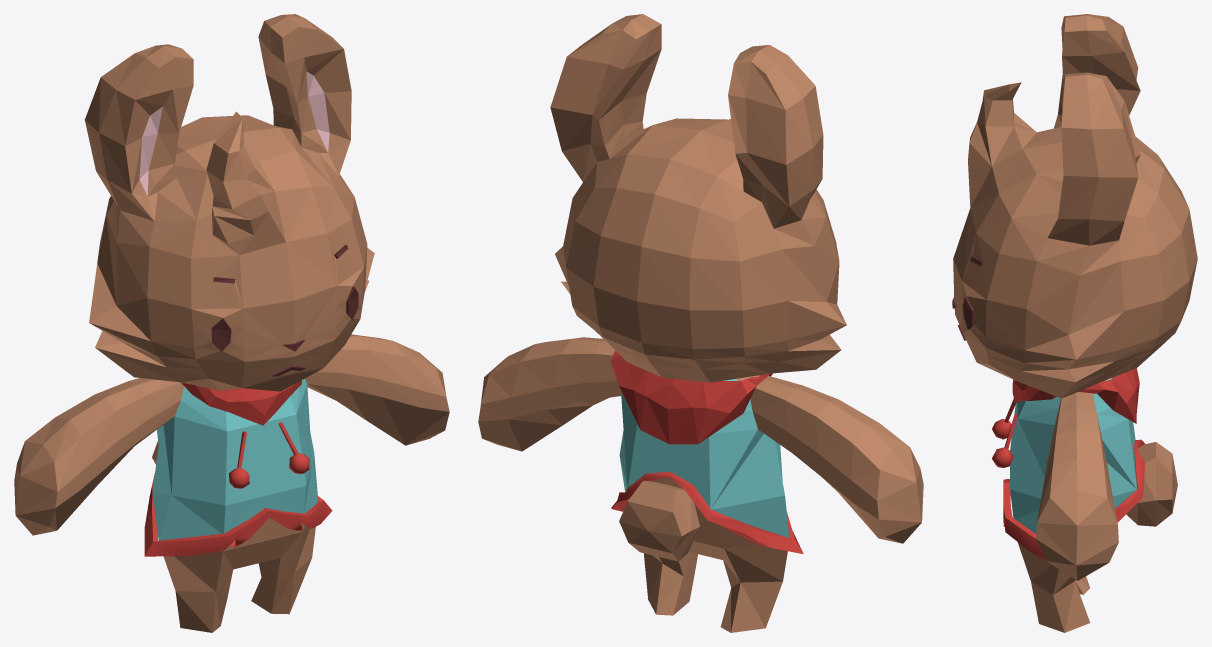
The model's file is Sax model coloured.fbx.
3 views of the same model, side by side, from view 1: azimuth 30°, elevation 25°; view 2: azimuth 150°, elevation 25°; view 3: azimuth 270°, elevation 25° (orthographic). The views are drawn at different scales.
Visible parts, largest first — view 1: polySurface4, pCube8, pCube4, pCube7; view 2: polySurface4, pCube4, pCube8; view 3: polySurface4, pCube4, pCube8, pCube7.
Boxes of the visible parts, bbox=[...] form: polySurface4: bbox=[14, 14, 449, 632]; pCube8: bbox=[144, 473, 332, 556]; pCube4: bbox=[181, 380, 302, 425]; pCube7: bbox=[229, 422, 309, 488]; polySurface4: bbox=[478, 14, 923, 632]; pCube4: bbox=[610, 351, 772, 444]; pCube8: bbox=[611, 471, 803, 554]; polySurface4: bbox=[952, 14, 1197, 632]; pCube4: bbox=[1012, 368, 1139, 423]; pCube8: bbox=[1003, 439, 1145, 563]; pCube7: bbox=[992, 398, 1017, 467].
Bounding box in the file's own units: 6.5 × 8.25 × 3.28.
